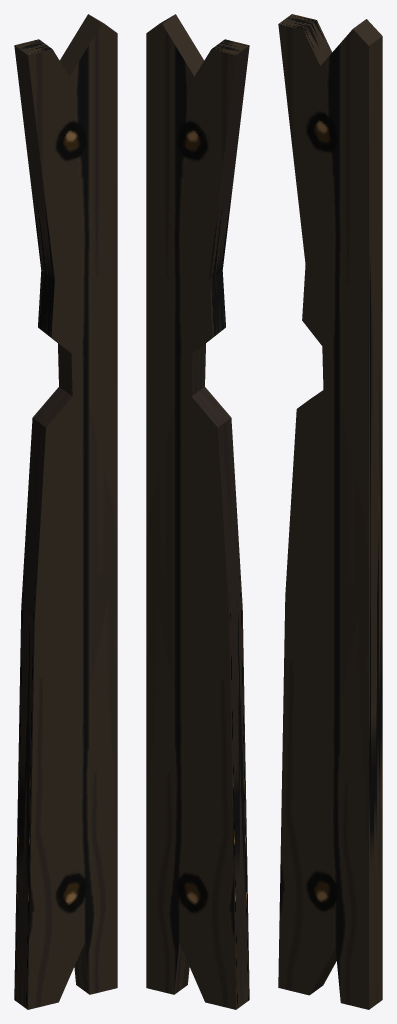
The model's file is ThanhGoB.fbx.
3 views of the same model, side by side, from view 1: azimuth 30°, elevation 25°; view 2: azimuth 150°, elevation 25°; view 3: azimuth 330°, elevation 25° (orthographic).
Parts seen in each view (by area): view 1: ThanhGoB; view 2: ThanhGoB; view 3: ThanhGoB.
Part boxes in pixels (box(x1,y1,x2,y2)): ThanhGoB: box(14, 14, 117, 1009); ThanhGoB: box(146, 14, 249, 1009); ThanhGoB: box(278, 14, 382, 1009).
Bounding box in the file's own units: 0.0657 × 0.2503 × 2.58.
1 material, 1 textured.
